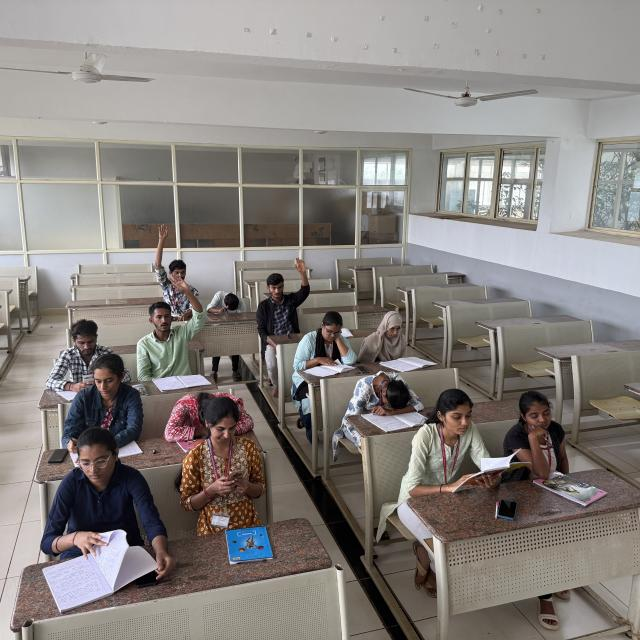Hand Rising: (134, 272, 207, 372), (149, 224, 202, 310), (256, 255, 314, 332)
Reading: (35, 428, 167, 596), (414, 383, 519, 491), (295, 311, 358, 378)
Sleeping: (162, 389, 257, 440), (344, 369, 423, 423), (203, 282, 250, 318)
Using Phone: (182, 398, 277, 520)
